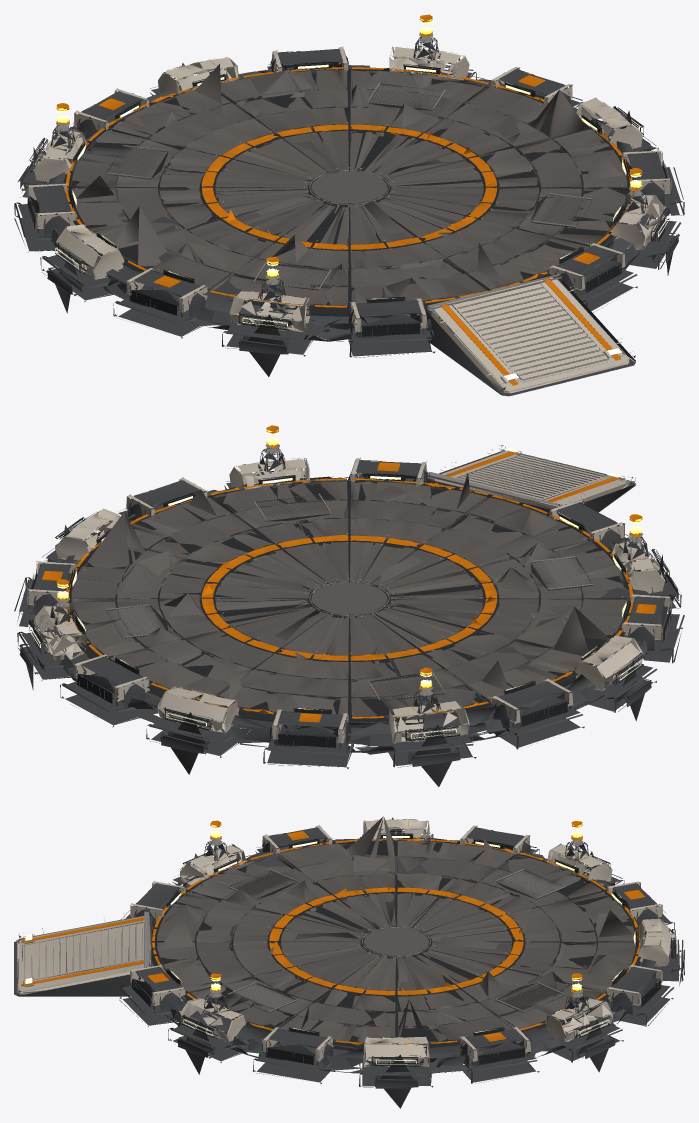
Rendered from landing-pad.glb.
3 views of the same model, one above another, from view 1: azimuth 30°, elevation 25°; view 2: azimuth 150°, elevation 25°; view 3: azimuth 270°, elevation 25° (orthographic). The views are drawn at different scales.
Parts seen in each view (by area): view 1: landing-pad; view 2: landing-pad; view 3: landing-pad.
Part boxes in pixels (x1,y1,x2,y2): landing-pad: [14, 14, 684, 396]; landing-pad: [14, 425, 684, 786]; landing-pad: [14, 816, 684, 1108].
Size of the model in its own units: 13.75 by 2.37 by 15.99.
